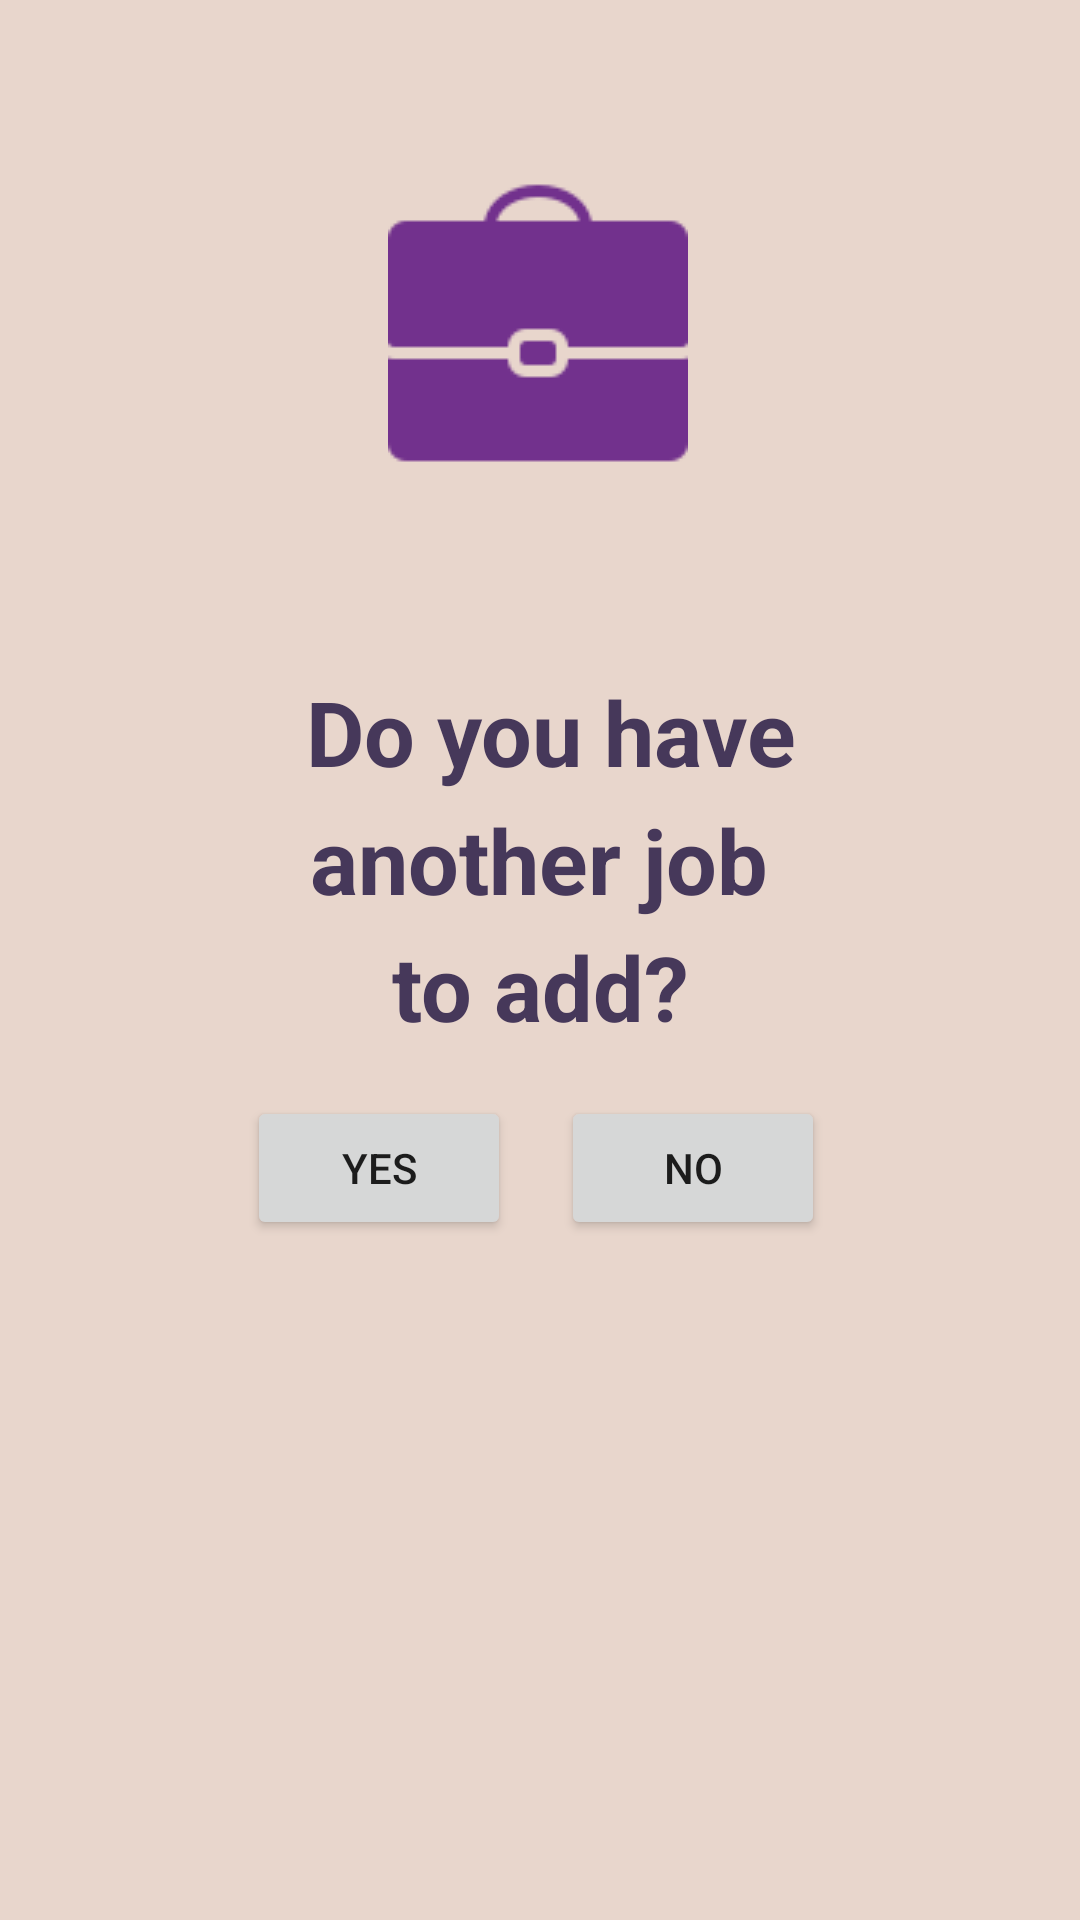

Locate icon controls on the screen. Image size 1080x1920, boxes as [x1,y1,x2,y2].
more jobs: [388,184,688,462]
